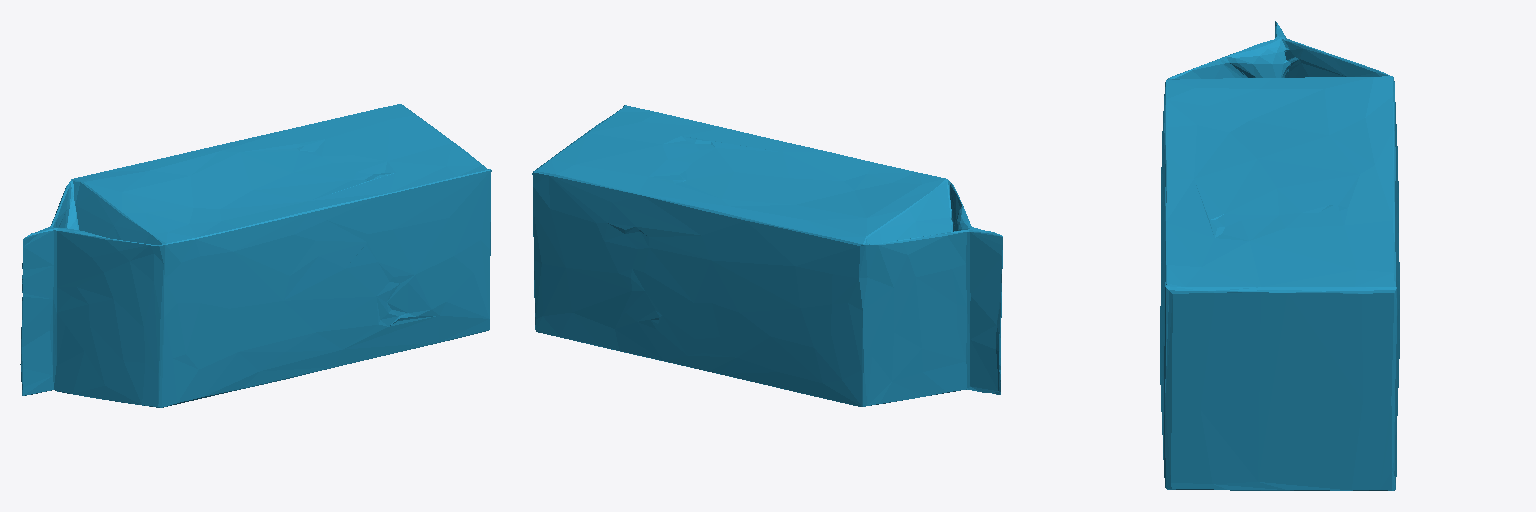
URDF robot description (myfirst):
<?xml version="1.0"?>
 <robot name="myfirst">
   <material name="light_green">
     <color rgba="0 1 0.498 1"/>
   </material>
   <material name="coral">
     <color rgba="1 0.498 0.3137 1"/>
   </material>
   <link name="Milk">
     <visual>
       <geometry>
         <!-- <box size="0.16 0.21343700408935547 0.061"/> -->
         <mesh filename="Milk.obj" scale="1 1 1"/>
       </geometry>
       <!-- <material name="light_green"/> -->
       <material name="blue">
         <color rgba="0.2 0.63137 0.788 1"/>
       </material>
       <origin xyz="0 0 0" rpy="0 0 0"/>
     </visual>
     <inertial>
       <mass value="0.5"/>
       <inertia ixx="1.0" ixy="0.0" ixz="0.0" iyy="1.0" iyz="0.0" izz="1.0"/>
     </inertial>
   </link>
   
 </robot>

--- What the picture shows (computed from the rendered views, not written in the file) ---
The picture shows the robot from 3 angles, left to right: view 1: azimuth 30°, elevation 25°; view 2: azimuth 150°, elevation 25°; view 3: azimuth 270°, elevation 25°; orthographic projection.
Robot: myfirst — 1 links, 0 joints (none); root link Milk; default pose: every joint at zero.
Visible links, largest first — view 1: Milk; view 2: Milk; view 3: Milk.
Link boxes in pixels (<box>): Milk: <box>20,104,491,407</box>; Milk: <box>532,105,1002,406</box>; Milk: <box>1160,21,1399,490</box>.
Size in the robot's own frame: 0.1903 by 0.0732 by 0.0722 metres.
1 mesh visuals loaded from 1 distinct referenced files (1 OBJ).
